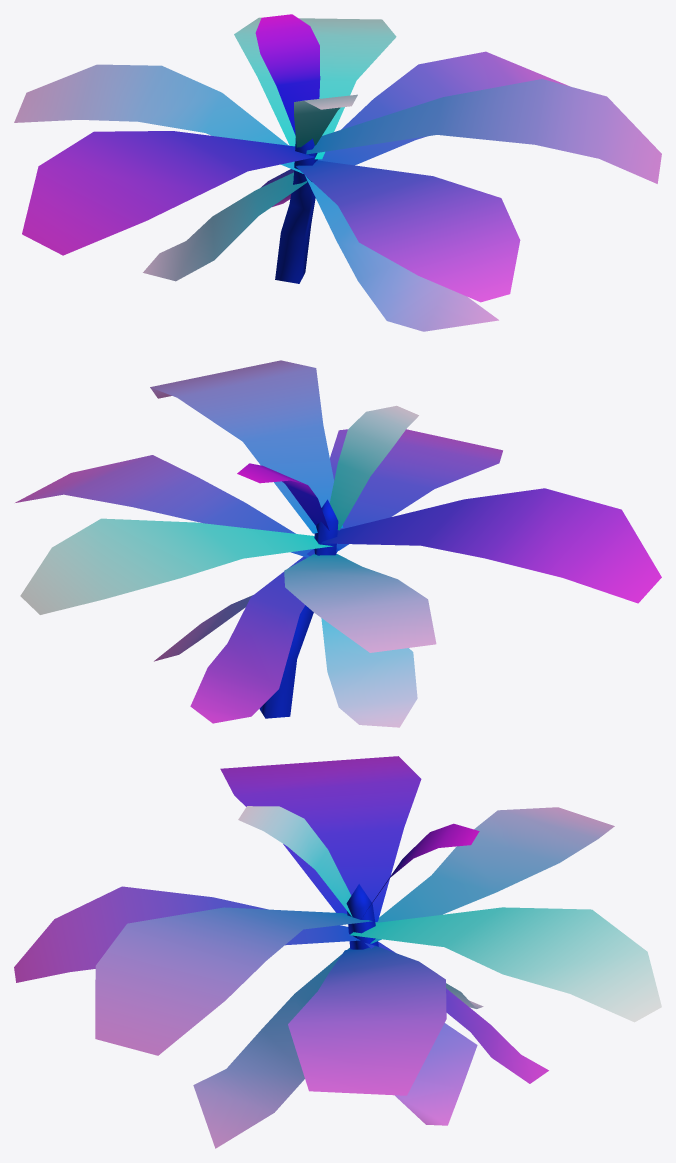
File: sfcnq_VarC_LOD1.fbx
3 renders of one model, top to bottom at view 1: azimuth 30°, elevation 25°; view 2: azimuth 150°, elevation 25°; view 3: azimuth 270°, elevation 25°, orthographic. The views are drawn at different scales.
Visible parts, largest first — view 1: _ba78_VarC_LOD2; view 2: _ba78_VarC_LOD2; view 3: _ba78_VarC_LOD2.
Part boxes in pixels (x1=…): _ba78_VarC_LOD2: x1=14, y1=14, x2=661, y2=331; _ba78_VarC_LOD2: x1=15, y1=360, x2=661, y2=727; _ba78_VarC_LOD2: x1=14, y1=756, x2=661, y2=1148.
Size of the model in its own units: 43.47 by 17.47 by 39.04.
